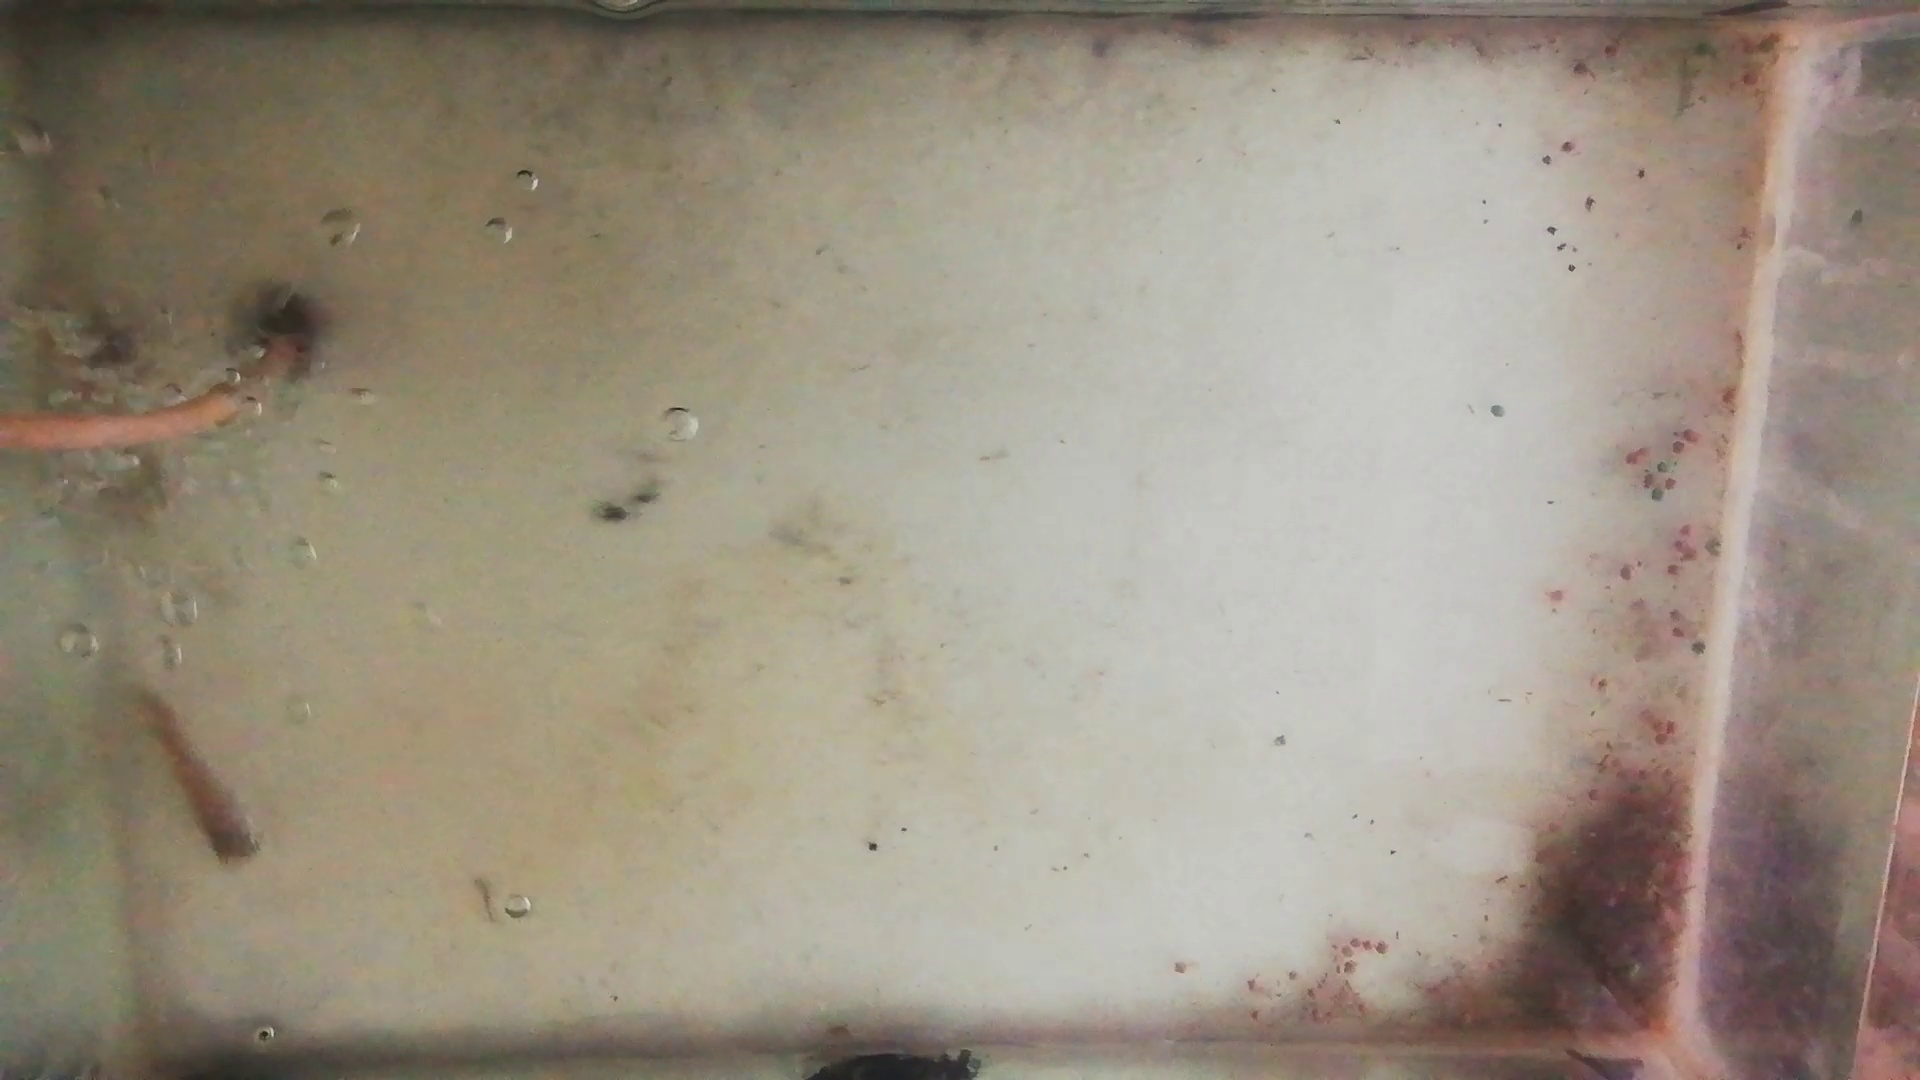fish: (137, 691, 262, 866), (73, 307, 149, 427)
